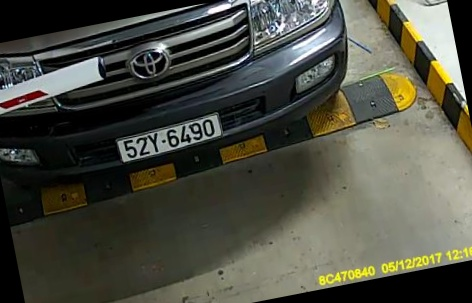plate: (112, 113, 232, 165)
